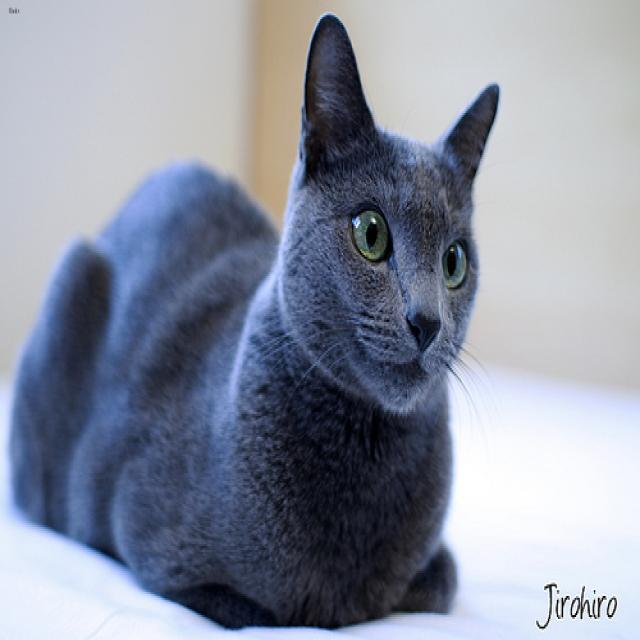Russian_Blue: (275, 7, 501, 422)
